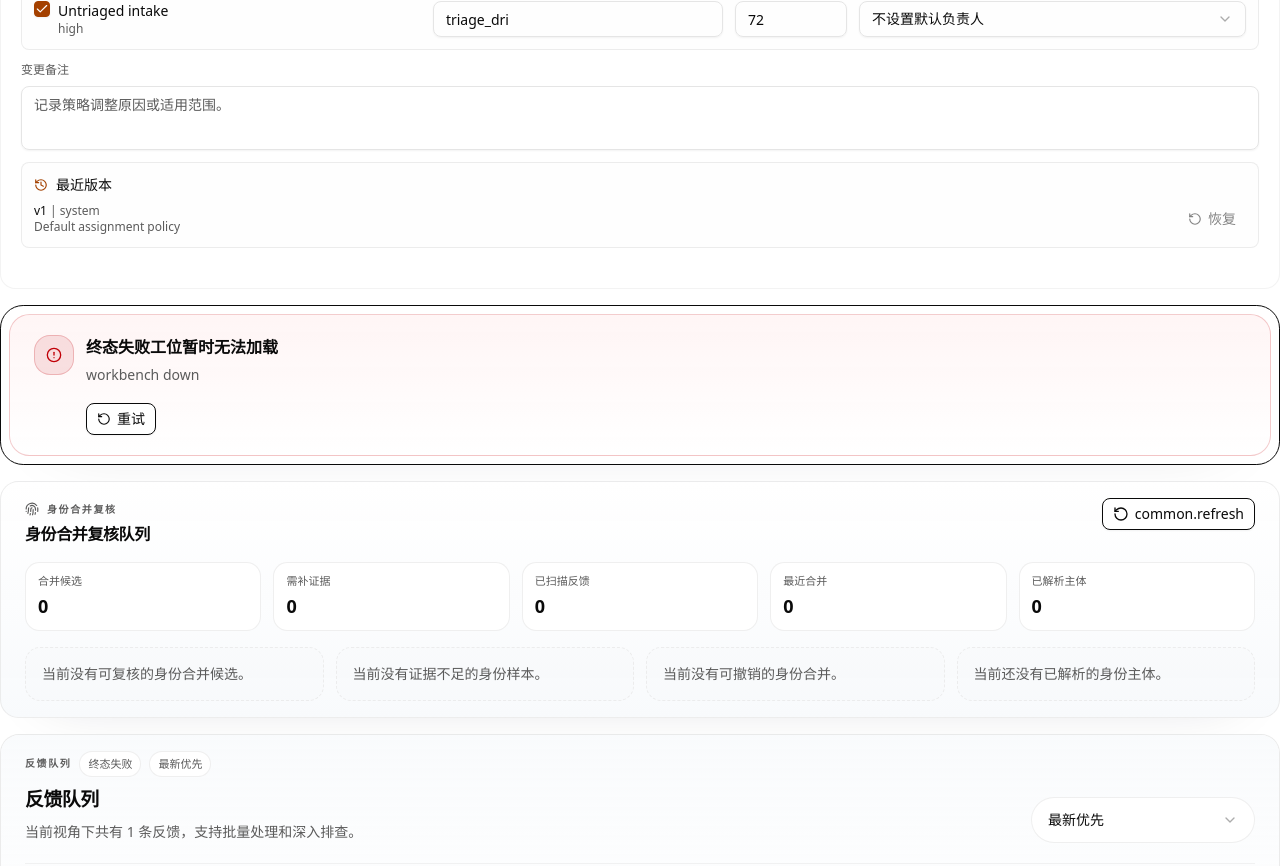
_authed.feedback route — user flow smoke › terminal workbench error state can retry the failed summary request
(page scrolled)
Expected: the heading "终态失败工位暂时无法加载" is shown, [86,336,278,358]
Click the button "重试": (121, 419) [86,403,156,435]
(page scrolled)
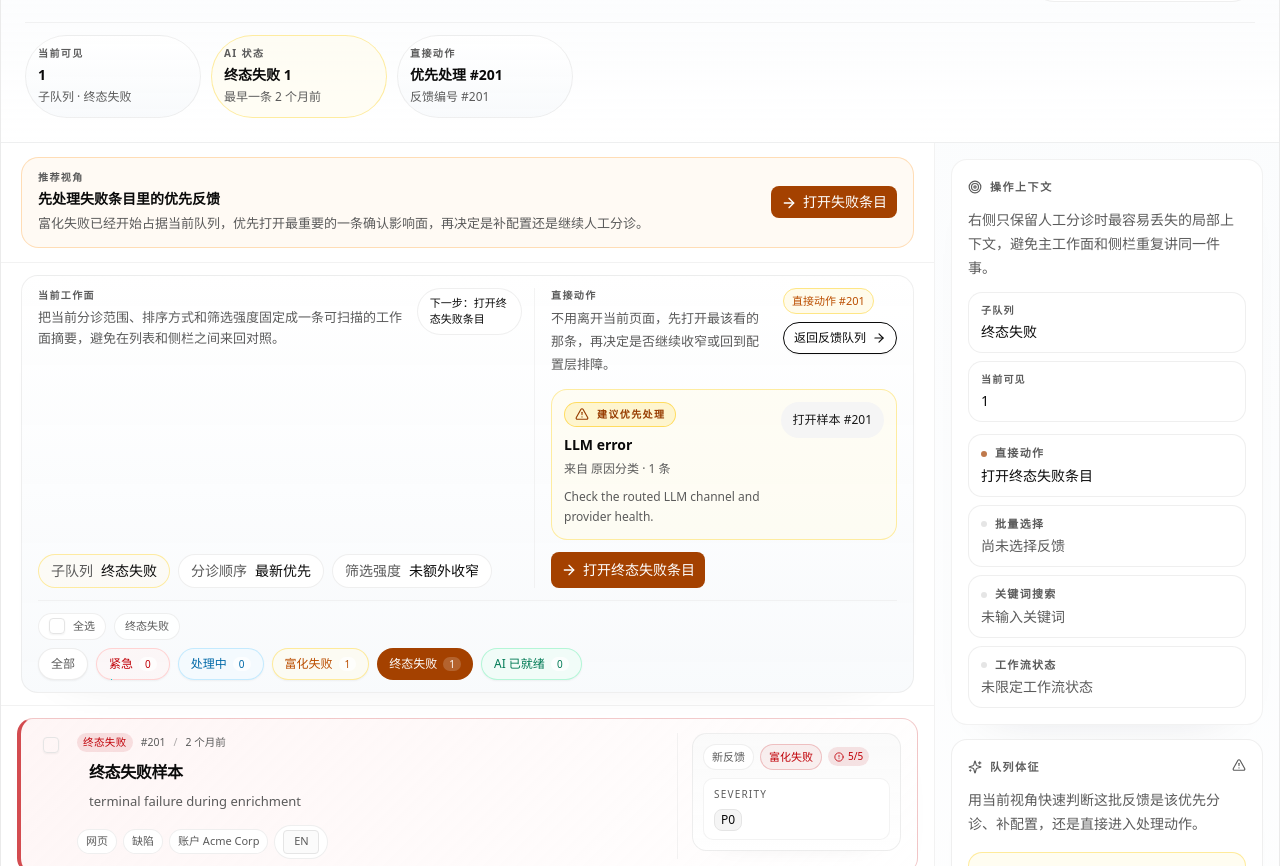
Now the button "打开样本 #201" is shown, box [780,402,884,438]
